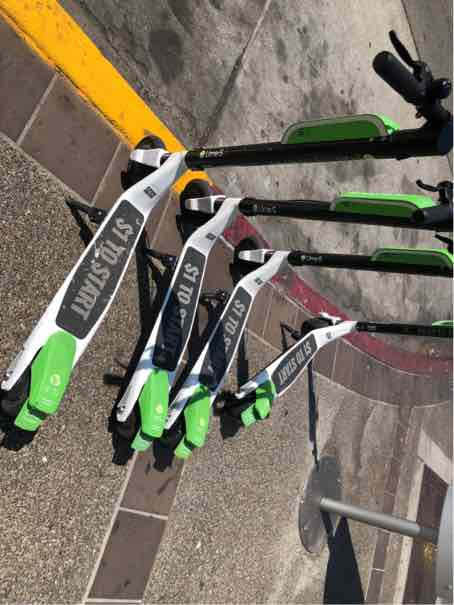scooter: (58, 92, 405, 436)
